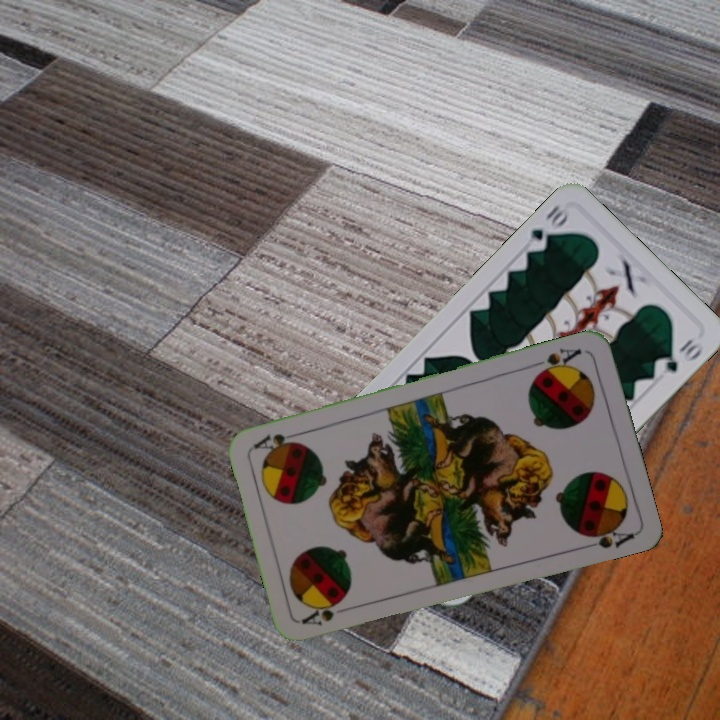G10: (522, 201, 573, 255)
SA: (529, 344, 585, 379), (298, 595, 348, 629)
